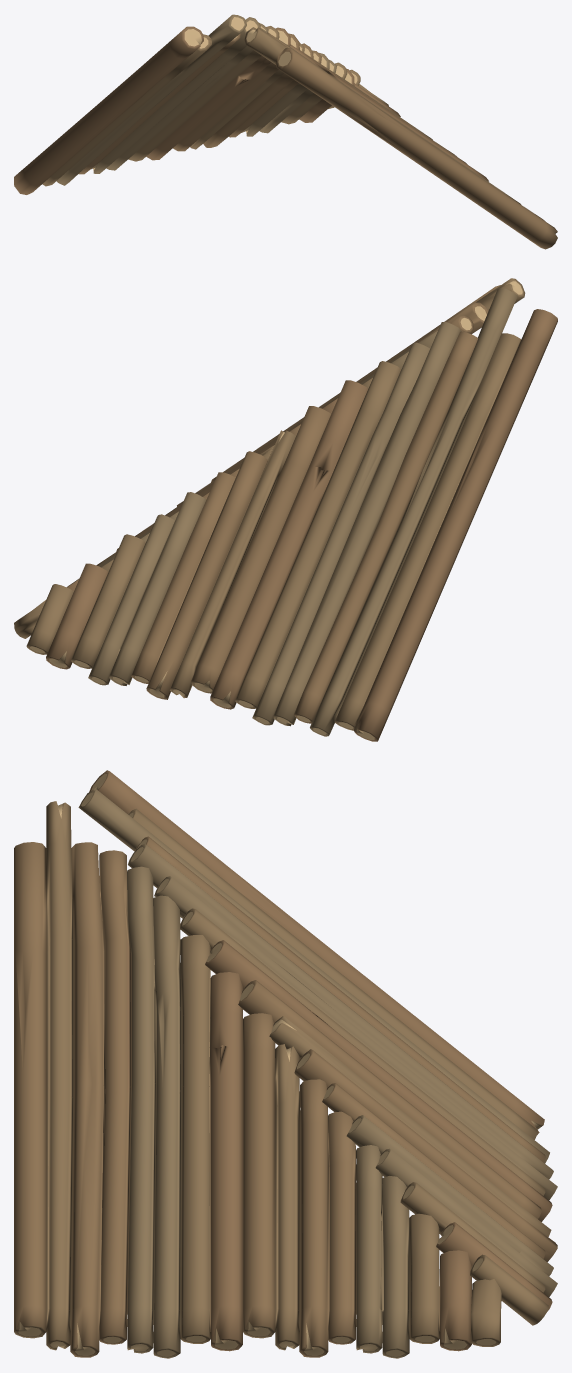
Rendered from rpgpp_ag_roof_01_9x4x3_corner_02.fbx.
3 renders of one model, top to bottom at view 1: azimuth 30°, elevation 25°; view 2: azimuth 150°, elevation 25°; view 3: azimuth 270°, elevation 25°, orthographic. The views are drawn at different scales.
Parts seen in each view (by area): view 1: rpgpp_ag_roof_01_9x4x3_corner_02; view 2: rpgpp_ag_roof_01_9x4x3_corner_02; view 3: rpgpp_ag_roof_01_9x4x3_corner_02.
Part boxes in pixels (<box>): rpgpp_ag_roof_01_9x4x3_corner_02: <box>14,14,557,249</box>; rpgpp_ag_roof_01_9x4x3_corner_02: <box>14,278,557,741</box>; rpgpp_ag_roof_01_9x4x3_corner_02: <box>14,770,557,1358</box>.
Size of the model in its own units: 7.03 by 5.52 by 7.13.
